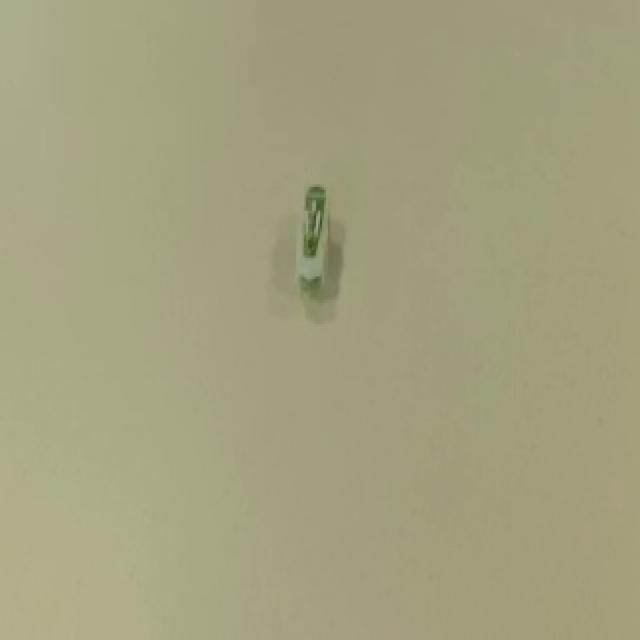4_NanoBug_Blanco: (271, 155, 359, 341)
